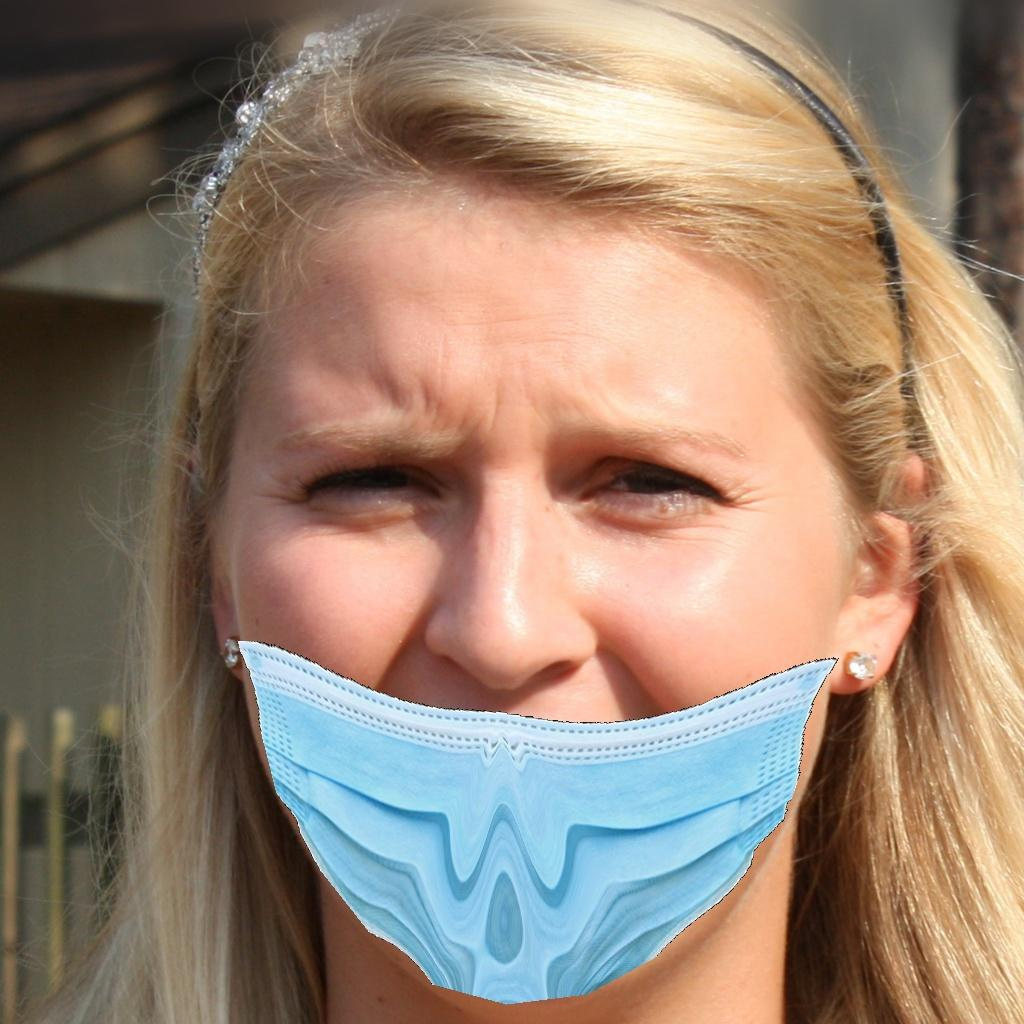Máscara Incorreta: (195, 229, 848, 987)
